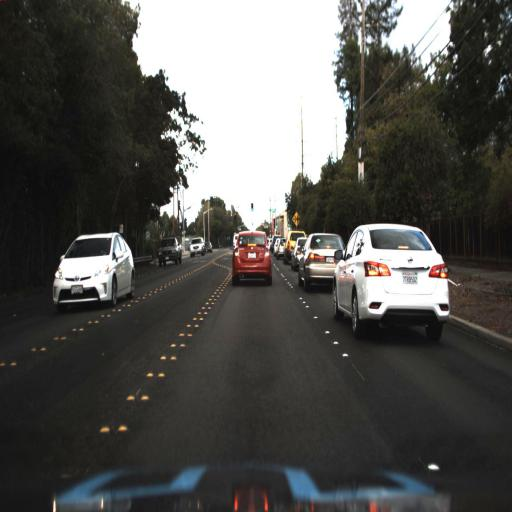car: (328, 220, 452, 340), (39, 214, 141, 324), (297, 231, 344, 290), (230, 230, 272, 286), (154, 233, 182, 270), (187, 233, 206, 259)
